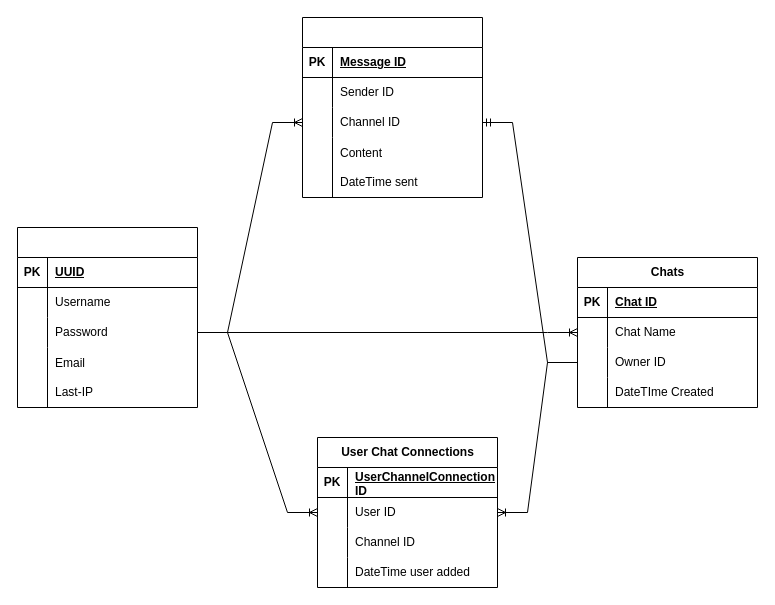
The diagram is 775 pixels wide and 605 high, and some of its shapes have lost their labels. The box of each missing label's shape, as (x1, y1, x2, y2) in pixels:
Clients: (16, 226, 198, 408)
Messages: (302, 16, 482, 198)
